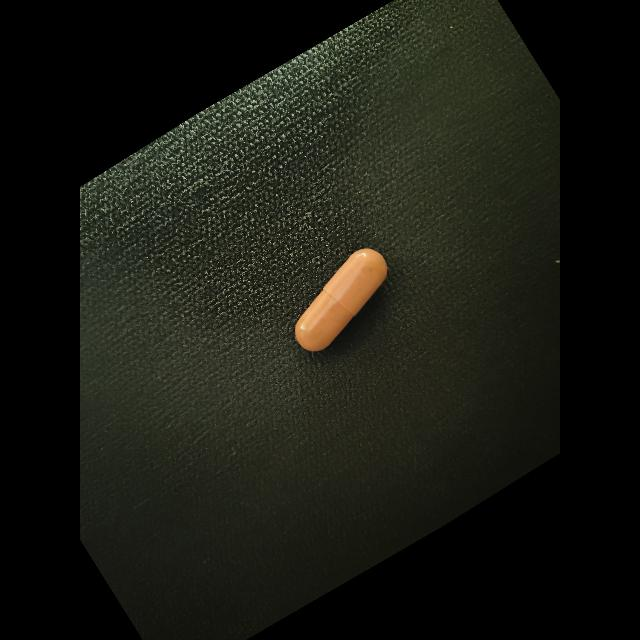Intact Capsule: (295, 248, 387, 351)
